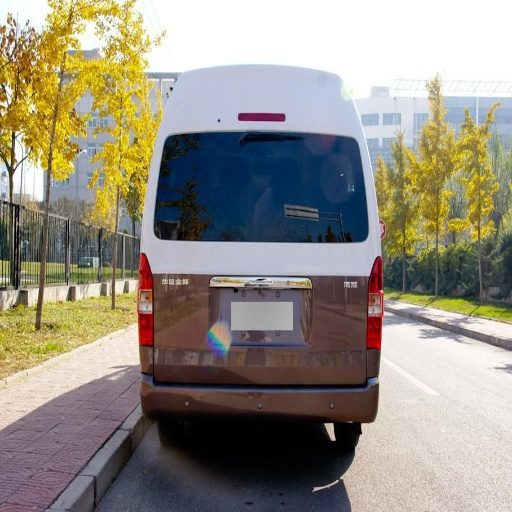back_bumper: (141, 352, 381, 421)
